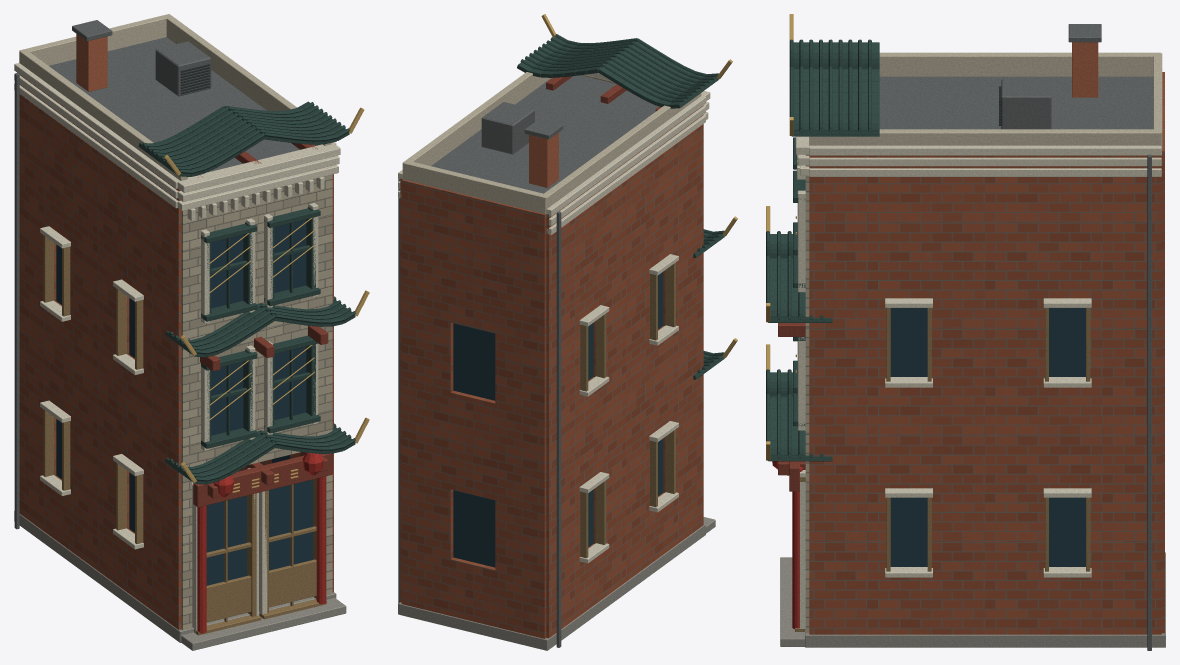
File: CHINA12_lod1.glb
3 views of the same model, side by side, from view 1: azimuth 30°, elevation 25°; view 2: azimuth 150°, elevation 25°; view 3: azimuth 270°, elevation 25° (orthographic). The views are drawn at different scales.
Parts seen in each view (by area): view 1: CHINA12_LOD1; view 2: CHINA12_LOD1; view 3: CHINA12_LOD1.
Part boxes in pixels (x1,y1,x2,y2): CHINA12_LOD1: [14, 14, 369, 650]; CHINA12_LOD1: [398, 14, 737, 650]; CHINA12_LOD1: [766, 14, 1165, 650].
Size of the model in its own units: 4.25 by 10.45 by 6.81.
15 materials, 12 textured.
